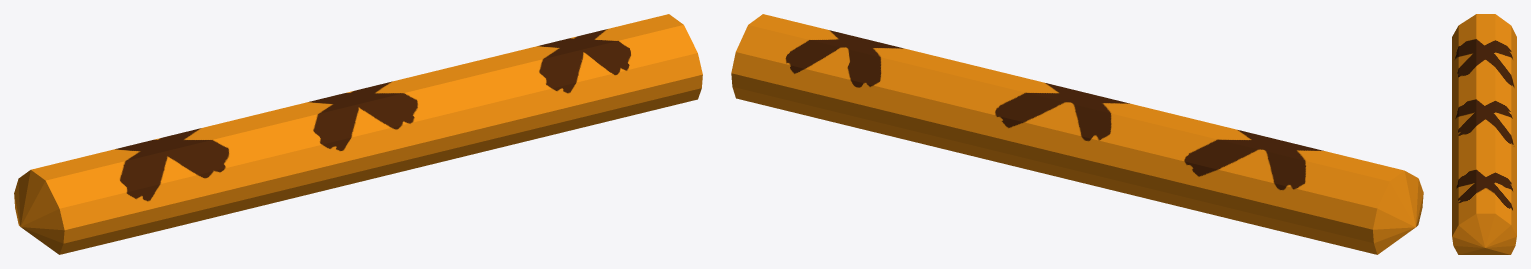
Rendered from yoot-round-8.glb.
The picture shows the model from 3 angles, left to right: view 1: azimuth 30°, elevation 25°; view 2: azimuth 150°, elevation 25°; view 3: azimuth 270°, elevation 25°; orthographic projection. The views are drawn at different scales.
Visible parts, largest first — view 1: Cylinder.009; view 2: Cylinder.009; view 3: Cylinder.009.
Part boxes in pixels (left/top/right/bottom): Cylinder.009: left=14, top=14, right=702, bottom=254; Cylinder.009: left=731, top=14, right=1423, bottom=254; Cylinder.009: left=1452, top=14, right=1516, bottom=254.
Size of the model in its own units: 10.36 by 0.9511 by 1.35.
Materials: 1 (1 with a texture image).
